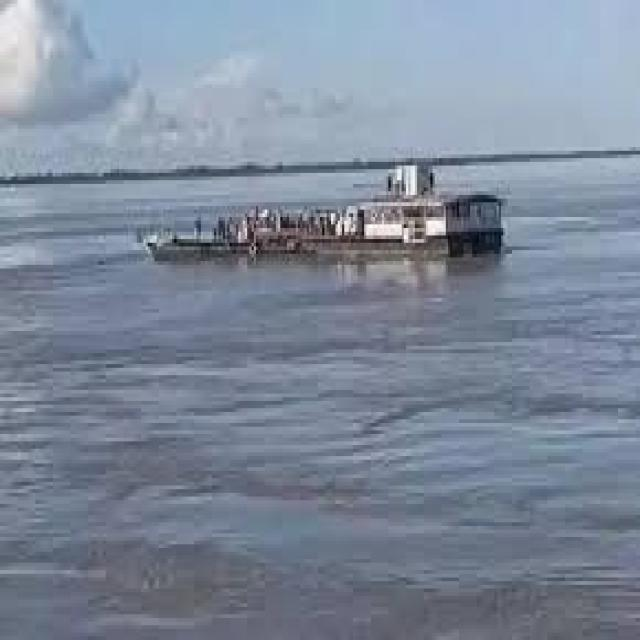houseboat: (136, 138, 514, 266)
